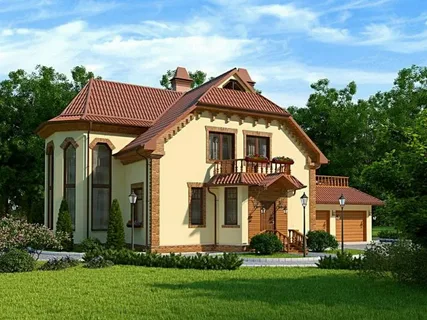private_hause: (49, 72, 323, 252)
